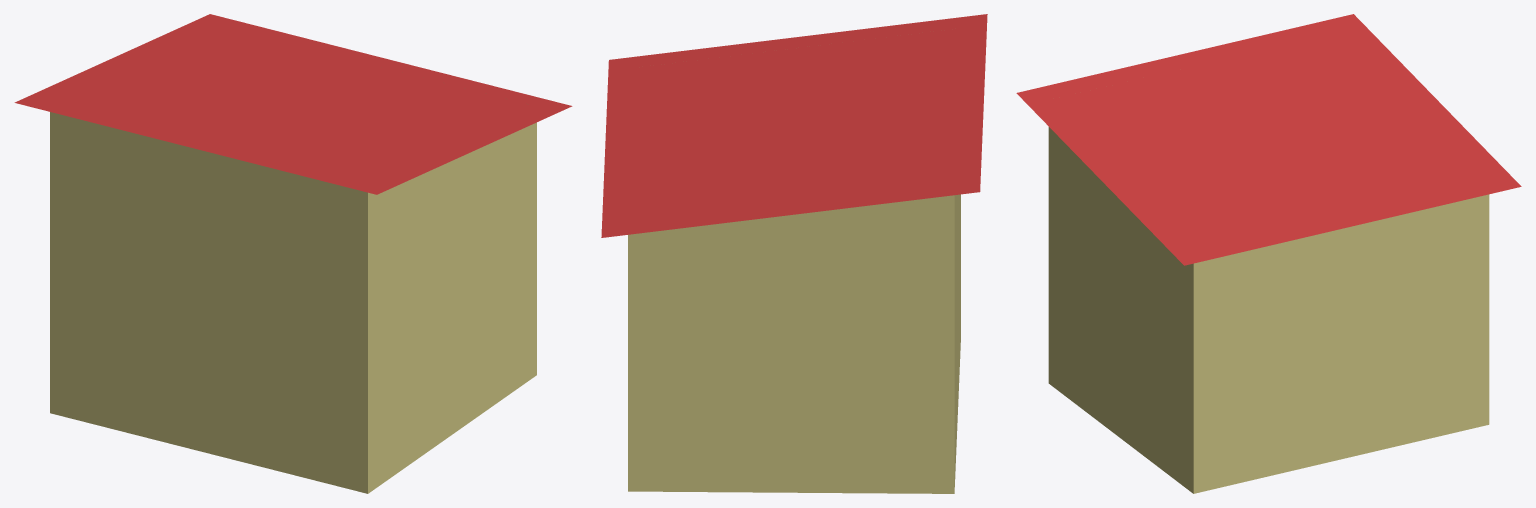
3 renders of one model, left to right at view 1: azimuth 30°, elevation 25°; view 2: azimuth 150°, elevation 25°; view 3: azimuth 270°, elevation 25°, orthographic. The views are drawn at different scales.
Size of the model in its own units: 15.42 by 15.9 by 9.94.
